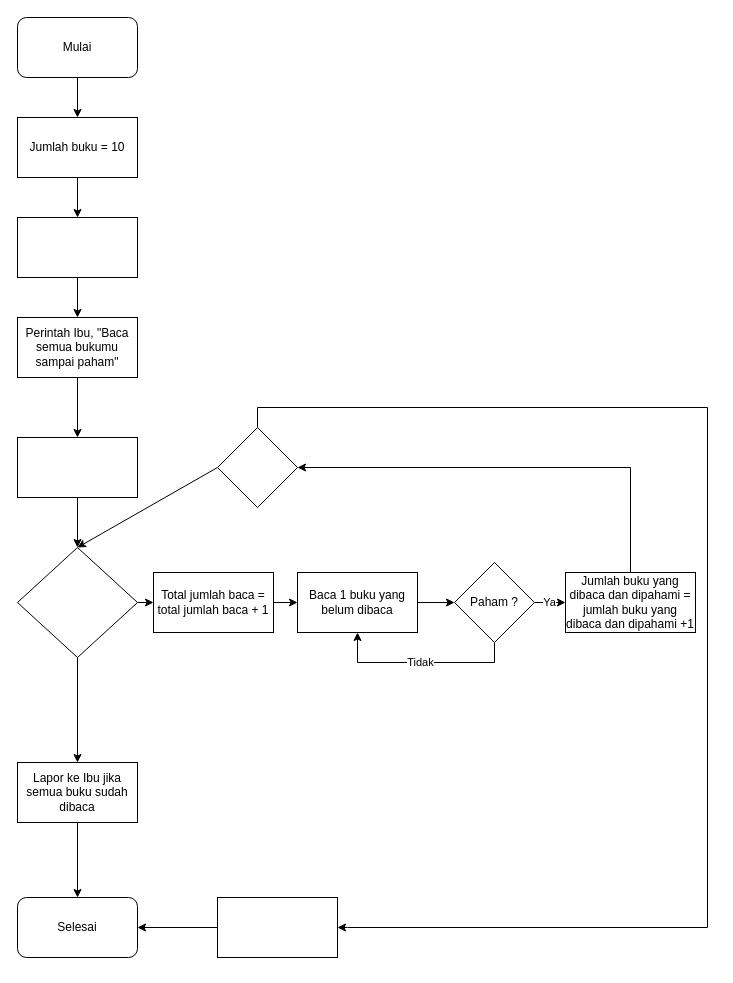
The diagram is 733 pixels wide and 983 high, and some of its shapes have lost their labels. The centre of each missing label's shape, as x and y in pixels:
Jumlah buku yang di baca = 0: pixel 77 467
Jumlah buku yang dibaca == jumlah buku?: pixel 77 602
Lapor ke Ibu jika tidak semua buku bisa dipahami: pixel 277 927
Total jumlah baca = 0: pixel 77 247
Total jumlah baca = jumlah buku * 2: pixel 257 467
